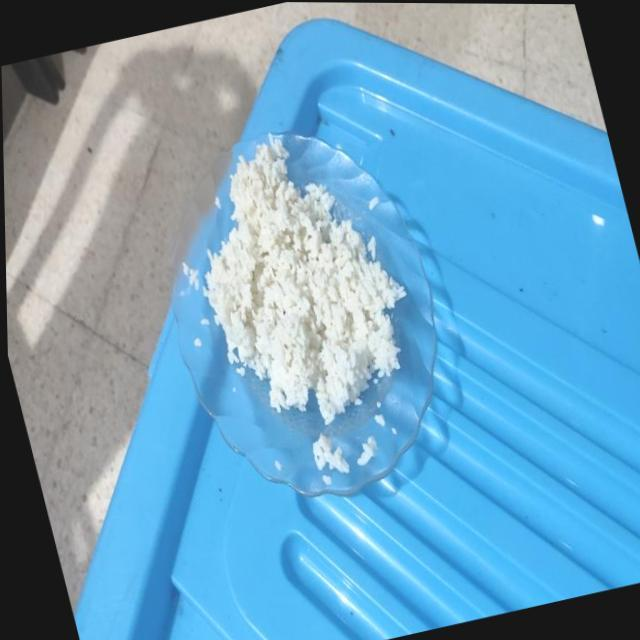nasi_putih: (204, 133, 405, 424)
